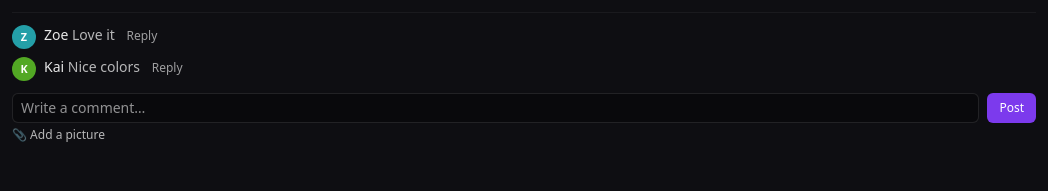
it: PostCommentList › adds a trimmed comment to the end and reports the new count
The width and height of the screenshot is (1048, 191).
Check: the text "Love it" is shown, box [72,25,115,44]
Type "  Great work " into the field with placeholder "Write a comment…". click: (496, 108)
box: [12,93,979,123]
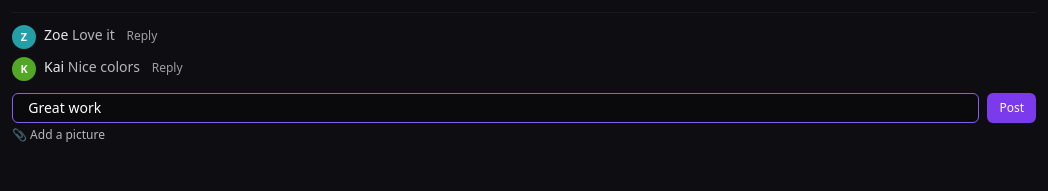
Click the button "Post". click: (1012, 108)
box: [987,93,1036,123]
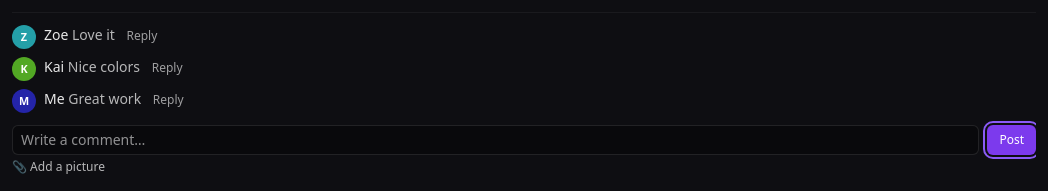
Check: the text "Great work" is shown, box [68,89,141,108]
Check: the field with placeholder "Write a comment…" is empty, box [12,125,979,155]
